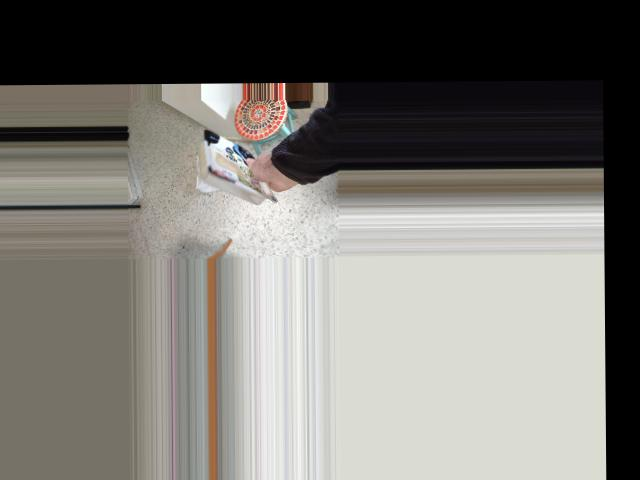cheese: (194, 115, 296, 214)
